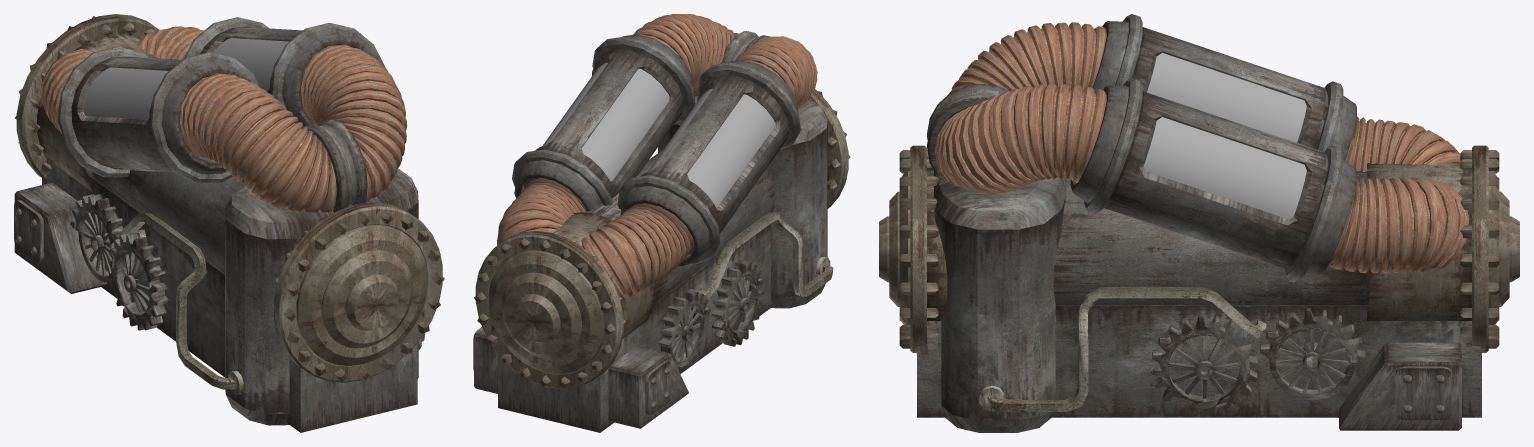
The model's file is static.glb.
3 views of the same model, side by side, from view 1: azimuth 30°, elevation 25°; view 2: azimuth 150°, elevation 25°; view 3: azimuth 270°, elevation 25° (orthographic). The views are drawn at different scales.
Parts seen in each view (by area): view 1: Extrude_3, Cube_30, Tube_4, Cylinder_3, Cylinder_0, Cylinder_Cube, Cylinder_1, Cylinder_2, Tube_3, Cylinder_1_2_2, Cube_29, Remesh_2 (+25 smaller); view 2: Cylinder_Cube, Cylinder_2, Cube_30, Extrude_3, Tube_4, Cylinder_3, Cylinder_0, Cube_29, Tube_3, Cylinder_1_2_2, Cylinder_1, Sweep (+25 smaller); view 3: Cube_30, Extrude_3, Cylinder_Cube, Cylinder_1, Cylinder_2, Cylinder_1_4_2, Tube_3, Tube_4, Cube_29, Cylinder_3, Sweep_2, Sweep (+26 smaller).
Part boxes in pixels (box(x1,y1,x2,y2)): Extrude_3: box(225, 168, 418, 425); Cube_30: box(42, 159, 417, 432); Tube_4: box(16, 14, 442, 382); Cylinder_3: box(58, 17, 385, 182); Cylinder_0: box(296, 224, 427, 365); Cylinder_Cube: box(71, 27, 302, 172); Cylinder_1: box(91, 170, 243, 273); Cylinder_2: box(83, 38, 288, 119); Tube_3: box(161, 32, 376, 174); Cylinder_1_2_2: box(321, 249, 413, 348); Cube_29: box(14, 182, 107, 293); Remesh_2: box(108, 232, 168, 330); Cylinder_Cube: box(535, 49, 788, 233); Cylinder_2: box(542, 62, 774, 207); Cube_30: box(498, 223, 773, 432); Extrude_3: box(658, 97, 827, 308); Tube_4: box(475, 89, 848, 388); Cylinder_3: box(512, 36, 800, 263); Cylinder_0: box(488, 250, 603, 374); Cube_29: box(474, 328, 688, 428); Tube_3: box(514, 34, 798, 266); Cylinder_1_2_2: box(501, 272, 581, 358); Cylinder_1: box(585, 149, 774, 302); Sweep: box(689, 212, 833, 299); Cube_30: box(917, 305, 1481, 417); Extrude_3: box(933, 171, 1066, 432); Cylinder_Cube: box(1104, 27, 1328, 268); Cylinder_1: box(1053, 171, 1366, 305); Cylinder_2: box(1143, 52, 1306, 218); Cylinder_1_4_2: box(927, 163, 1471, 320); Tube_3: box(1070, 21, 1356, 275); Tube_4: box(910, 145, 1488, 352); Cube_29: box(1339, 342, 1461, 430); Cylinder_3: box(1084, 14, 1343, 282); Sweep_2: box(969, 27, 1458, 266); Sweep: box(987, 287, 1266, 411).
Bounding box in the file's own units: 2.05 × 2.62 × 4.45.
5 materials, 5 textured.
